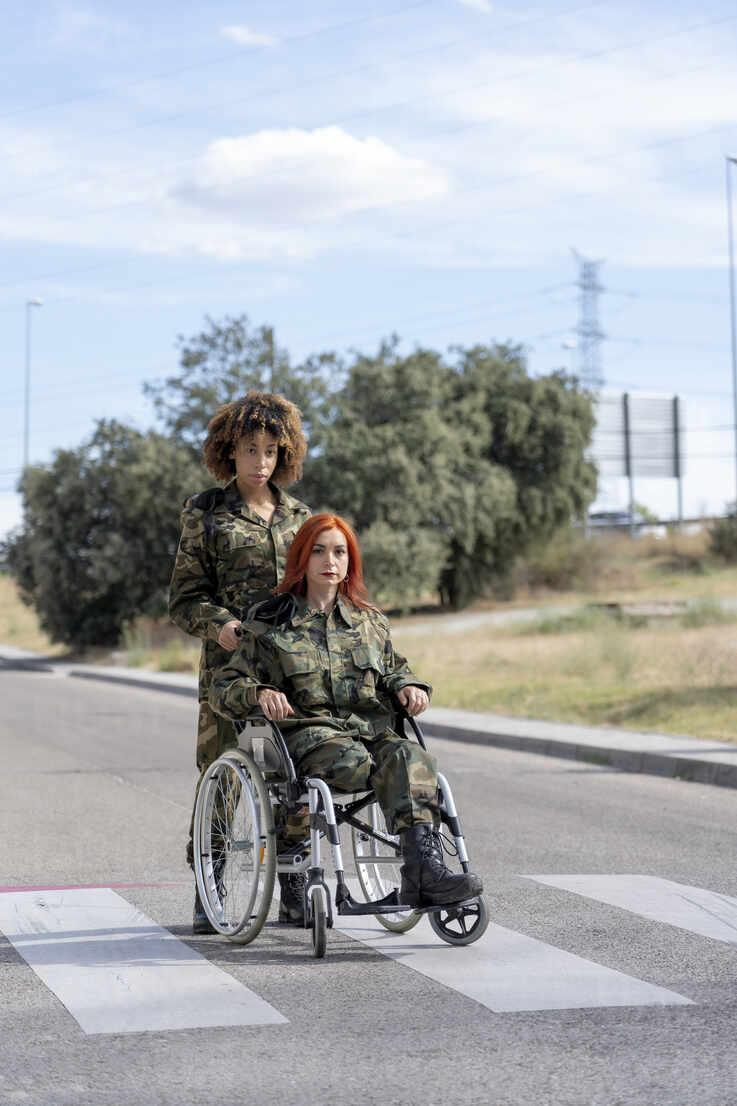push_wheelchair: (167, 390, 366, 934)
wheelchair: (189, 513, 490, 959)
